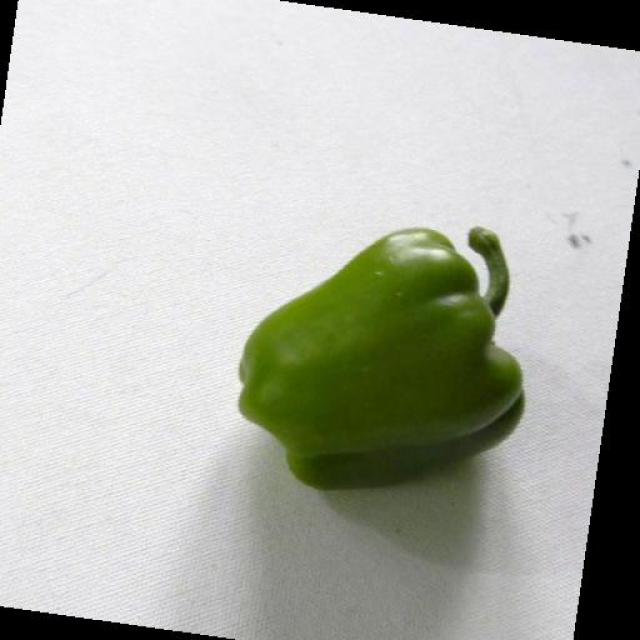Fresh_Capsicum: (189, 220, 562, 503)
